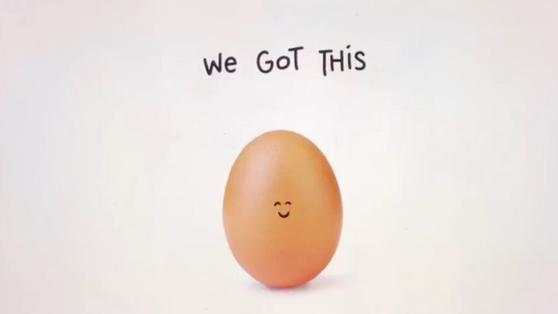egg: (223, 129, 341, 287)
